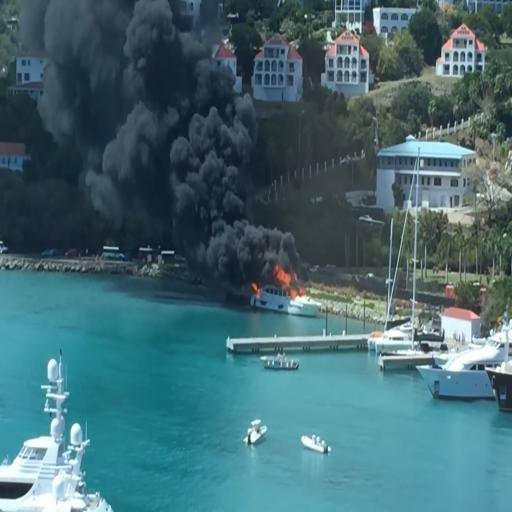smoke: (98, 0, 246, 213), (14, 0, 200, 106), (184, 106, 238, 258), (208, 215, 293, 276)
